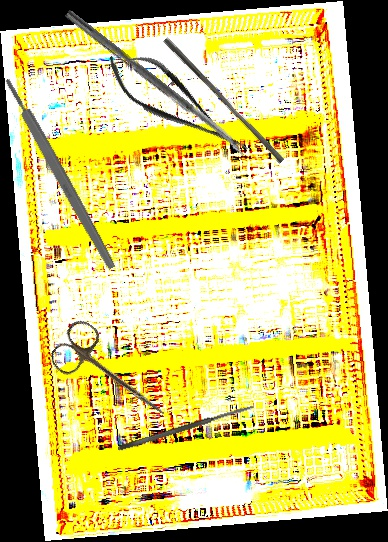Iris Scissors: (45, 315, 182, 435)
Micro Scissor: (96, 36, 253, 169)
Pusher: (158, 37, 289, 164)
Scalpel Handle: (1, 75, 119, 272)
Spatula Surgical: (117, 403, 256, 452)
Surgical Spoon: (63, 9, 249, 157)
